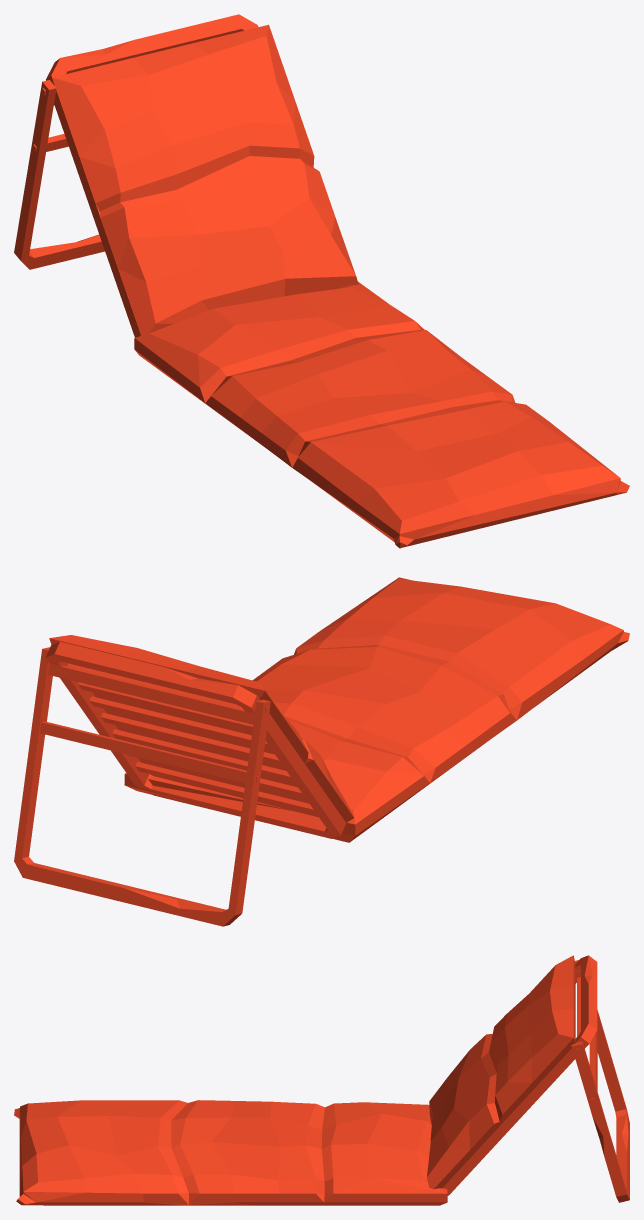
The model's file is SM_Lounger_B_City.fbx.
3 renders of one model, top to bottom at view 1: azimuth 30°, elevation 25°; view 2: azimuth 150°, elevation 25°; view 3: azimuth 270°, elevation 25°, orthographic. The views are drawn at different scales.
Parts seen in each view (by area): view 1: SM_Lounger_B_City; view 2: SM_Lounger_B_City; view 3: SM_Lounger_B_City.
Part boxes in pixels (bbox=[...]): SM_Lounger_B_City: bbox=[14, 14, 629, 548]; SM_Lounger_B_City: bbox=[14, 577, 629, 926]; SM_Lounger_B_City: bbox=[14, 955, 629, 1205].
Size of the model in its own units: 0.6355 by 0.5742 by 1.83.
